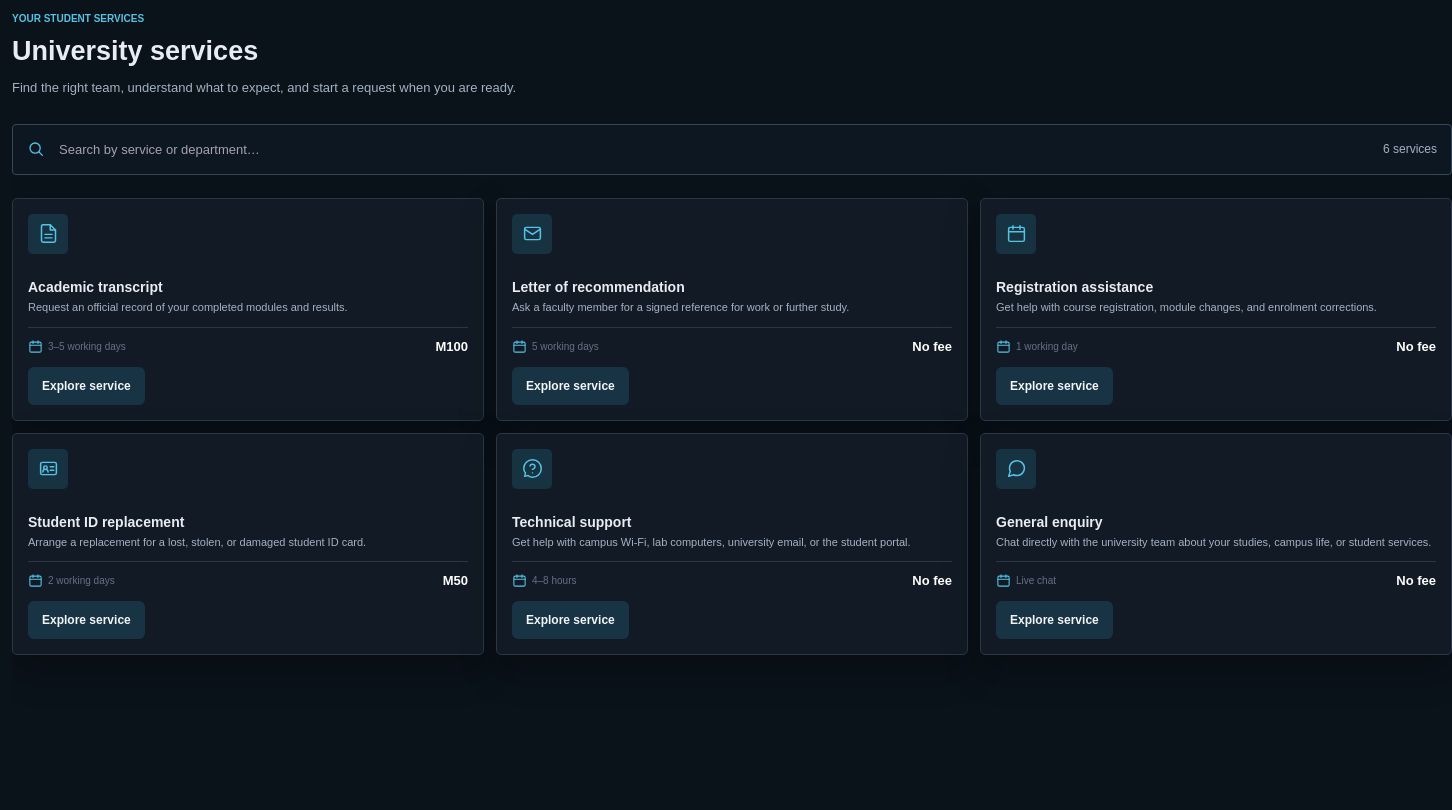
Test: student service directory includes live support services
This screenshot has width=1452, height=810.
Expected: the text "6 services" is shown, [1383, 142, 1437, 156]
Expected: the heading "Academic transcript" is shown, [28, 279, 163, 295]
Type "transcript" into the search field named "search university services" at coordinates (714, 149), box [57, 125, 1371, 174]
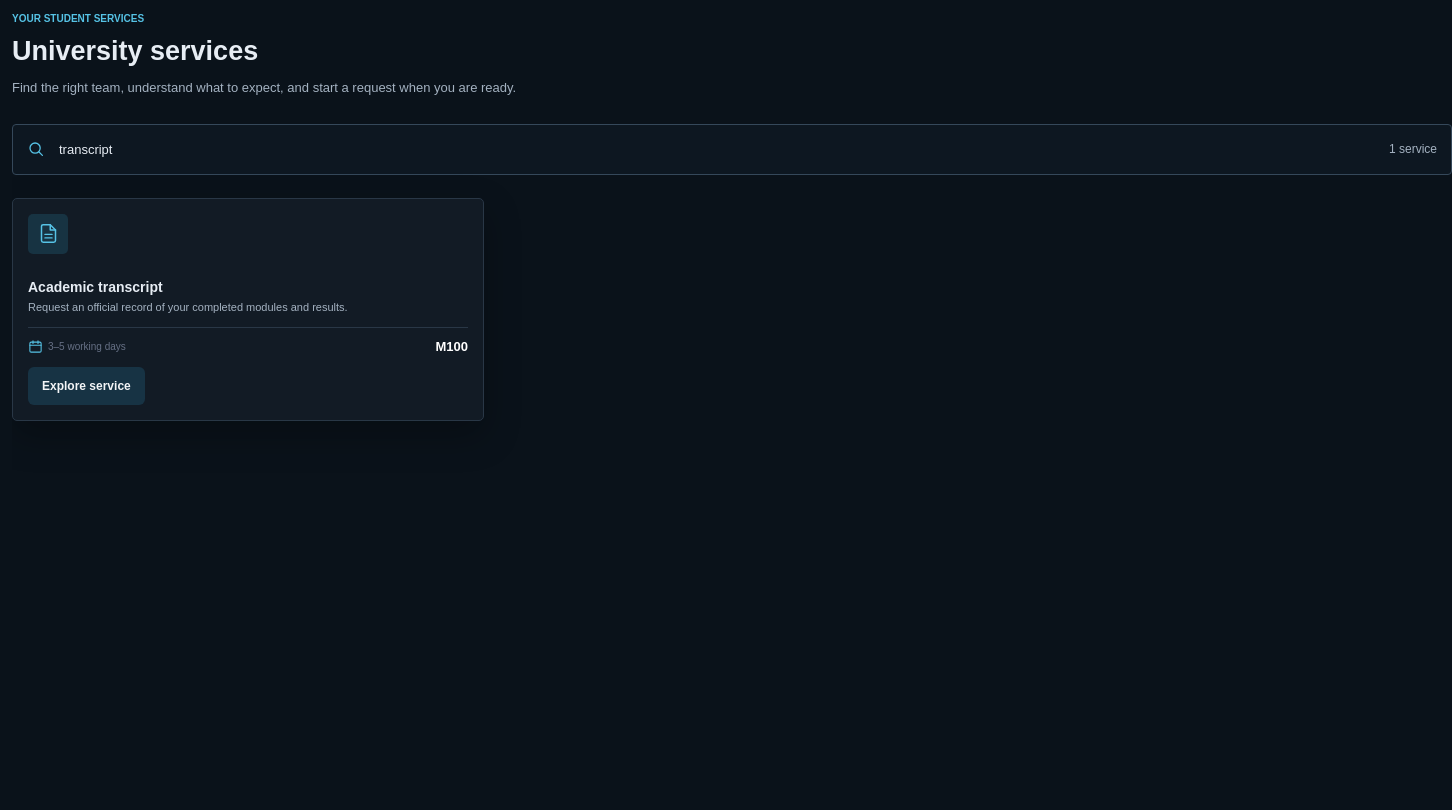
Expected: the heading "Academic transcript" is shown, [28, 279, 163, 295]
Expected: the text "1 service" is shown, [1389, 142, 1437, 156]
